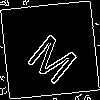M: (25, 25, 86, 87)
